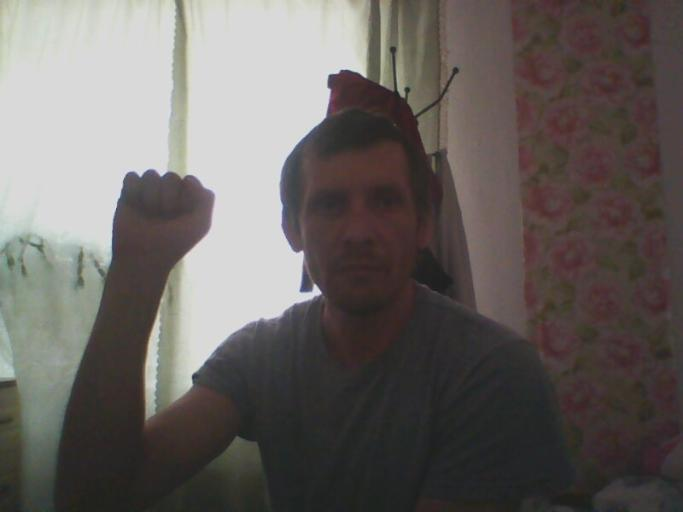fist: (106, 166, 215, 276)
